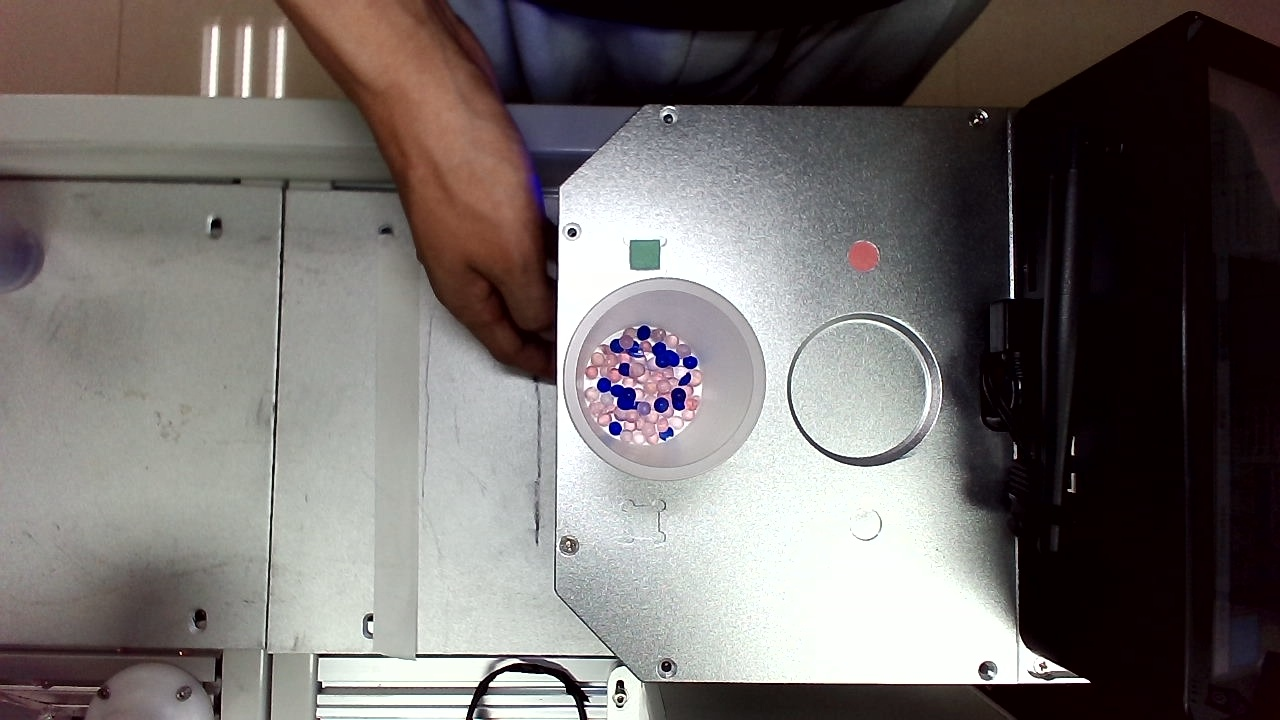bad: (836, 385, 889, 432), (257, 610, 308, 656), (782, 17, 827, 62), (627, 637, 671, 681), (262, 16, 305, 60), (468, 641, 508, 687), (816, 92, 856, 136), (836, 521, 880, 560), (517, 246, 558, 287), (261, 167, 304, 206), (813, 455, 854, 495), (343, 1, 388, 37), (774, 215, 813, 256), (269, 205, 314, 240), (833, 192, 874, 229), (593, 446, 634, 482), (764, 402, 801, 440), (259, 289, 297, 325), (756, 447, 792, 484), (258, 335, 297, 369), (839, 51, 872, 89), (805, 51, 838, 87)
defact: (744, 91, 783, 133), (687, 147, 727, 180)
pass: (570, 147, 614, 196), (639, 419, 682, 469), (563, 607, 606, 654), (514, 391, 558, 436), (263, 408, 307, 449), (290, 566, 331, 610), (691, 97, 729, 143), (733, 545, 774, 587), (390, 481, 431, 522), (717, 578, 756, 618), (766, 136, 803, 178), (663, 46, 695, 82)
toolong: (697, 408, 762, 460), (804, 314, 849, 372), (345, 39, 382, 105)
unpass: (263, 522, 307, 571), (835, 3, 875, 53), (643, 356, 686, 402), (613, 576, 654, 622), (844, 585, 890, 625), (843, 489, 886, 529), (801, 206, 845, 245), (681, 573, 722, 614), (405, 50, 445, 91), (309, 5, 347, 47), (824, 160, 867, 197), (843, 314, 885, 351), (849, 455, 892, 491), (838, 351, 882, 386), (848, 555, 893, 589), (676, 6, 714, 46), (842, 637, 879, 678), (673, 221, 709, 262), (654, 473, 691, 511), (644, 12, 677, 54), (281, 366, 320, 401), (847, 428, 890, 459), (781, 70, 816, 108)
